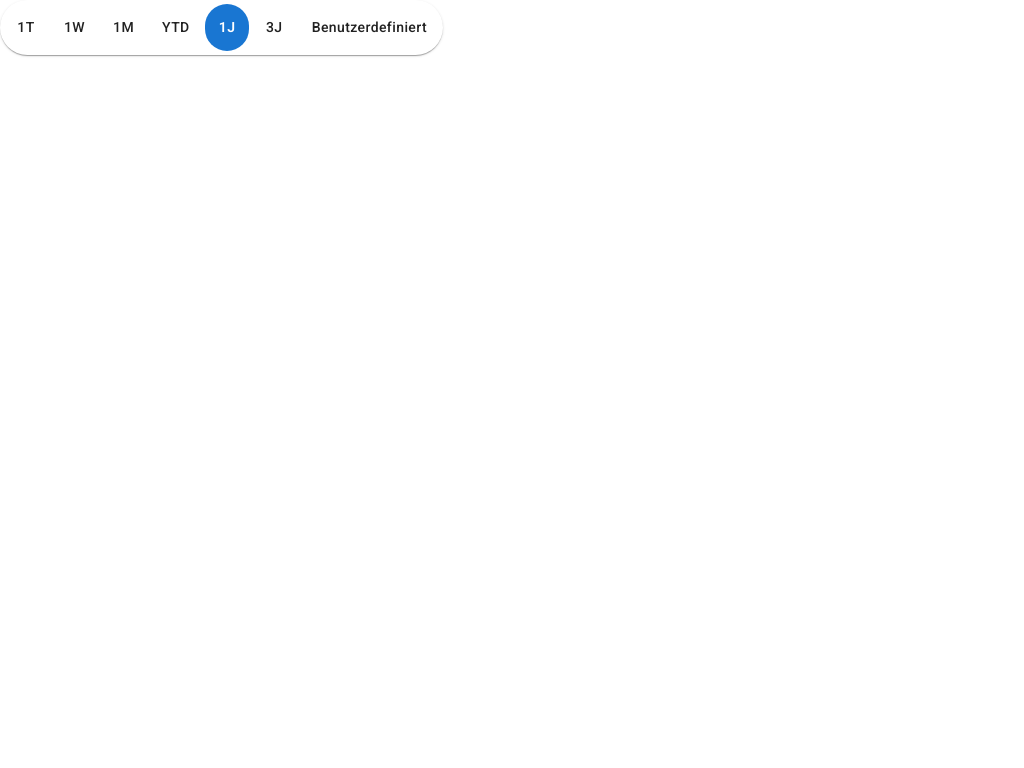
Test: PeriodSelector failures › keeps the dialog open with the message when the custom save is refused
Click the button "Benutzerdefiniert".
click(369, 27)  # box [299,4,439,50]
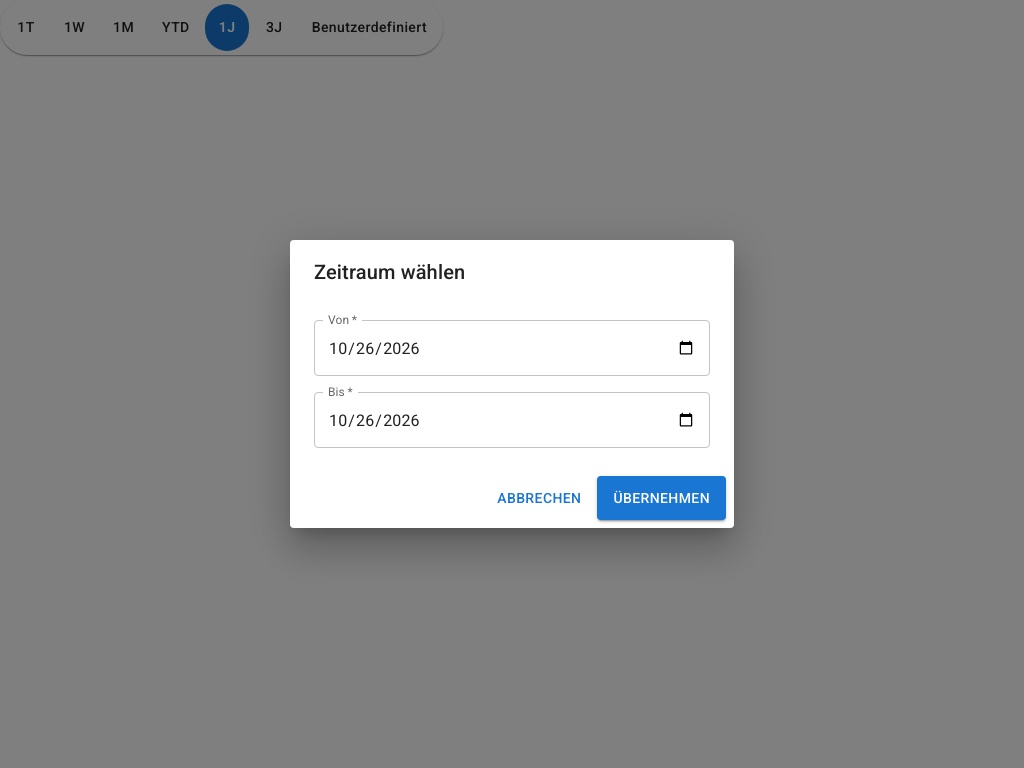
Type "2026-01-01" into the date field labelled "Von *".
click(512, 348); type("2026-01-01")  # box [314,320,710,376]
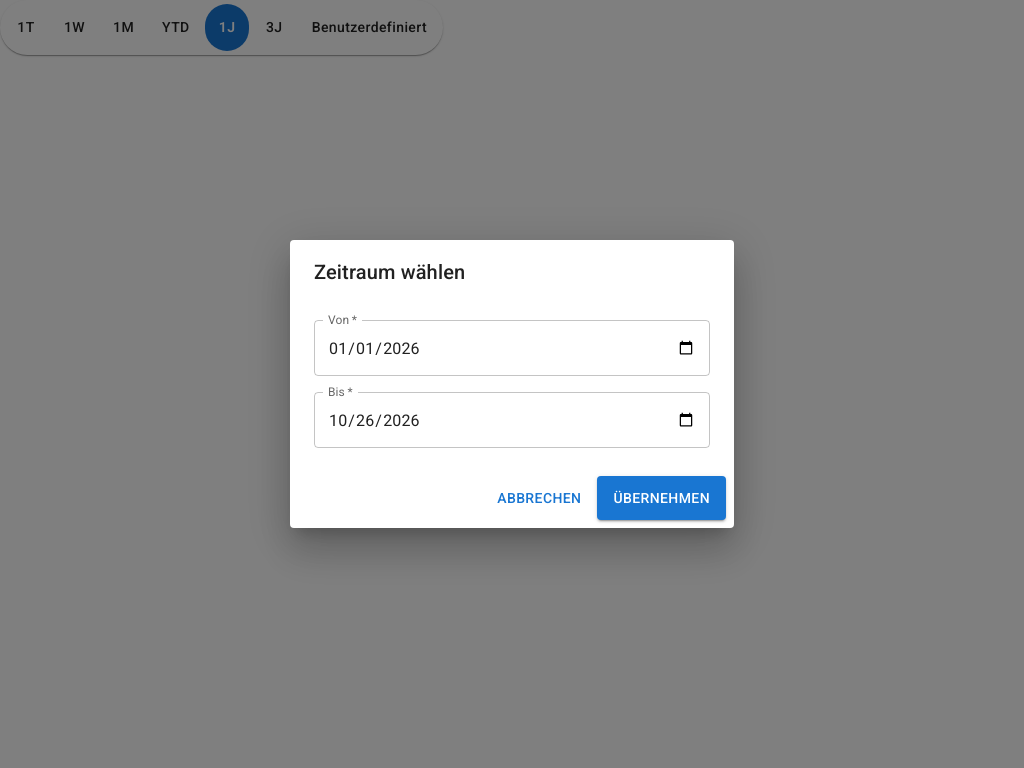
Type "2026-06-30" into the date field labelled "Bis *".
click(512, 420); type("2026-06-30")  # box [314,392,710,448]
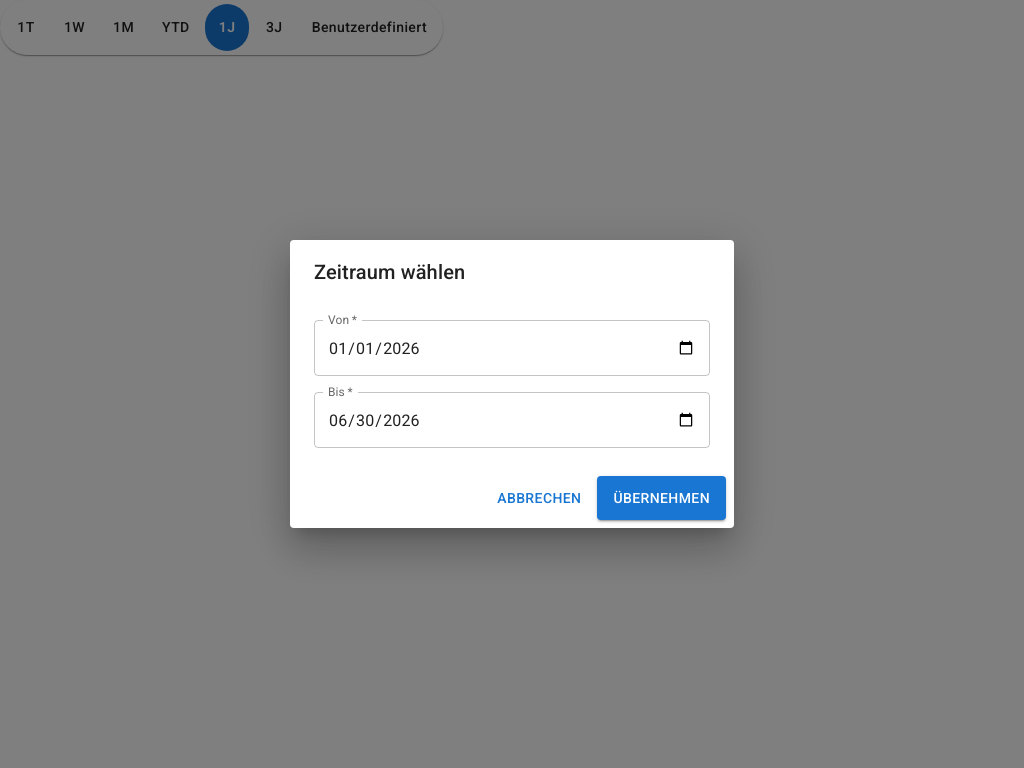
Click the button "Übernehmen".
click(662, 498)  # box [597,476,726,520]
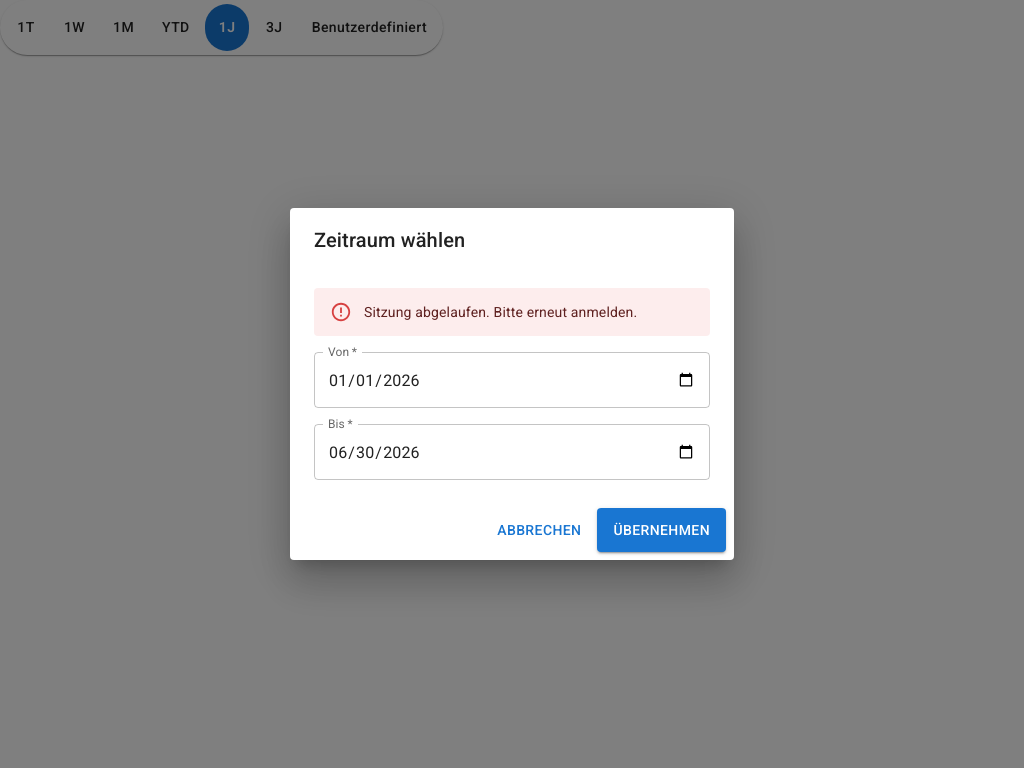
Expected: the message reads "Sitzung abgelaufen. Bitte erneut anmelden.", [364,304,637,320]
